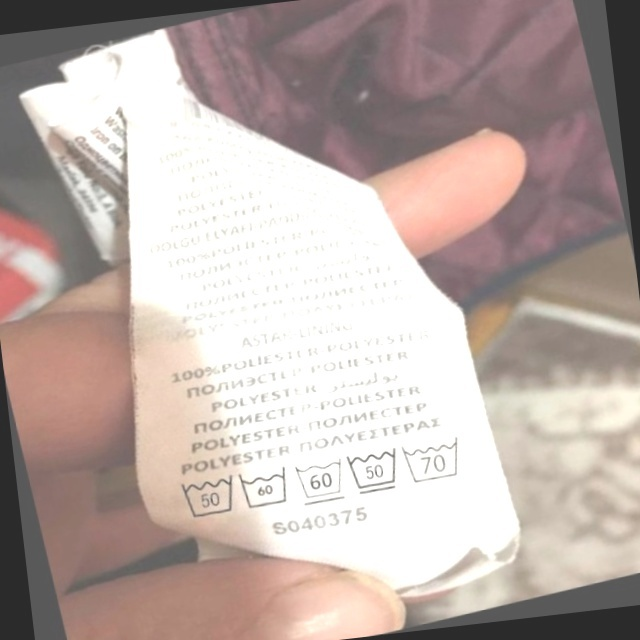50C: (172, 463, 246, 528), (342, 440, 409, 502)
60C: (290, 449, 355, 510), (234, 459, 299, 517)
70C: (399, 429, 474, 489)
